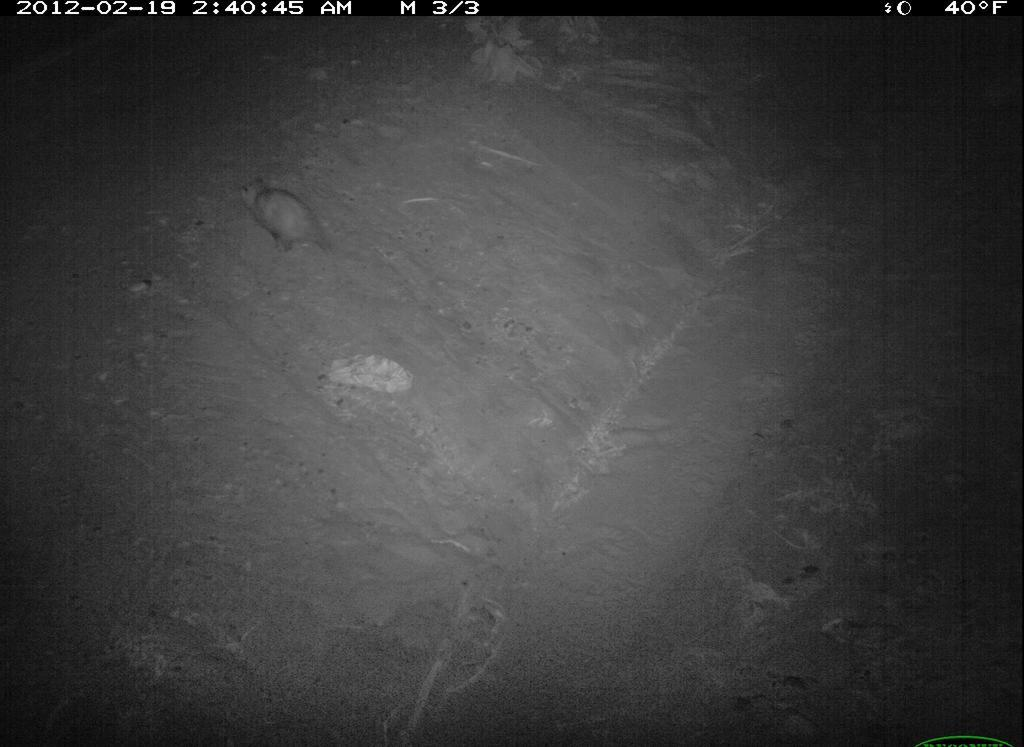opossum: (236, 178, 359, 267)
